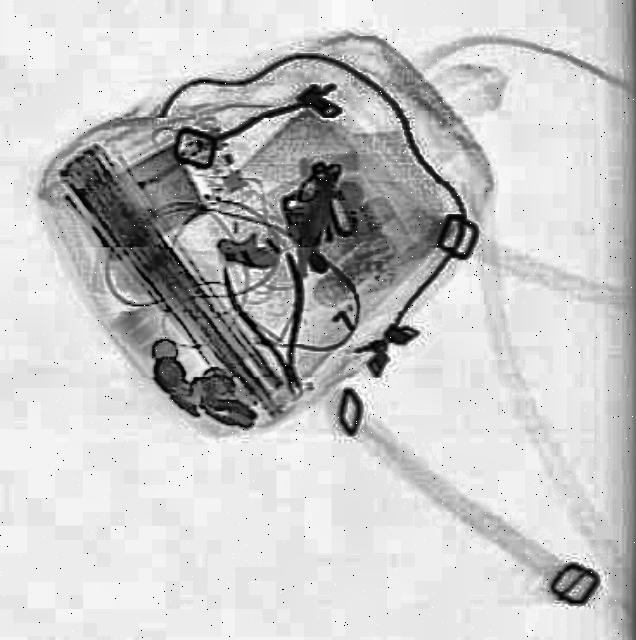Pliers: (222, 246, 336, 400)
